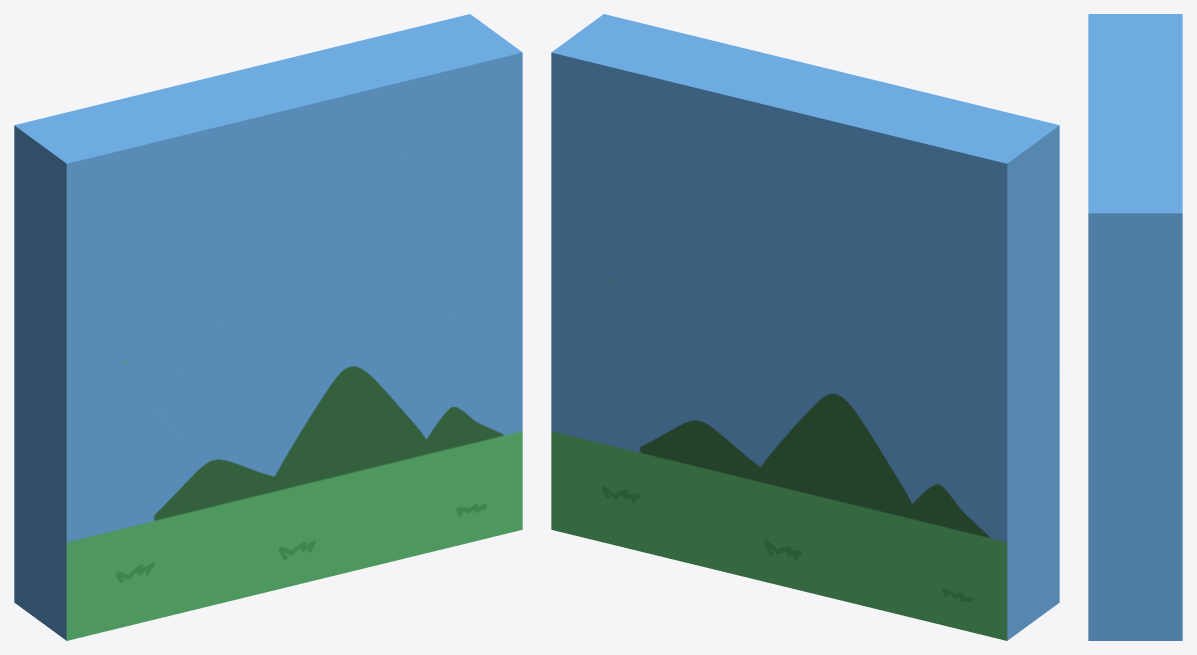
Rendered from Light_Walll.fbx.
The picture shows the model from 3 angles, left to right: view 1: azimuth 30°, elevation 25°; view 2: azimuth 150°, elevation 25°; view 3: azimuth 270°, elevation 25°; orthographic projection. The views are drawn at different scales.
Visible parts, largest first — view 1: Light_Wall; view 2: Light_Wall; view 3: Light_Wall.
Part boxes in pixels (x1=…): Light_Wall: x1=14, y1=14, x2=522, y2=640; Light_Wall: x1=551, y1=14, x2=1059, y2=640; Light_Wall: x1=1088, y1=14, x2=1182, y2=640.
Bounding box in the file's own units: 150 × 150 × 30.
1 material, 1 textured.
